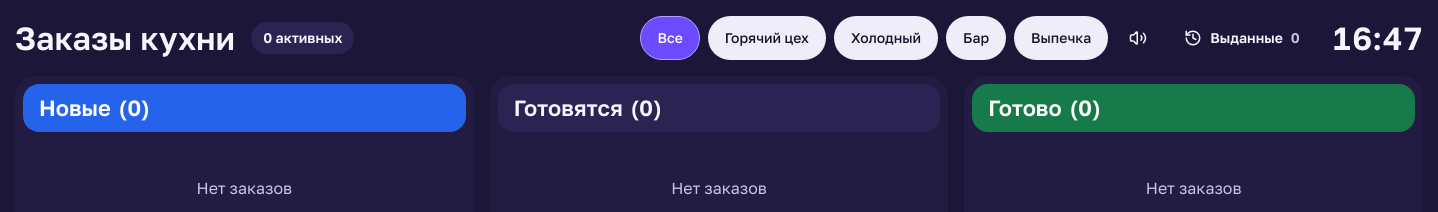
Test: KitchenBoard (W1-KDS-02) › has a sound switch remembered on the device
Step 1. Click the button named "Звук новых заказов включён" → click(1138, 38), box [1116,16,1160,60]
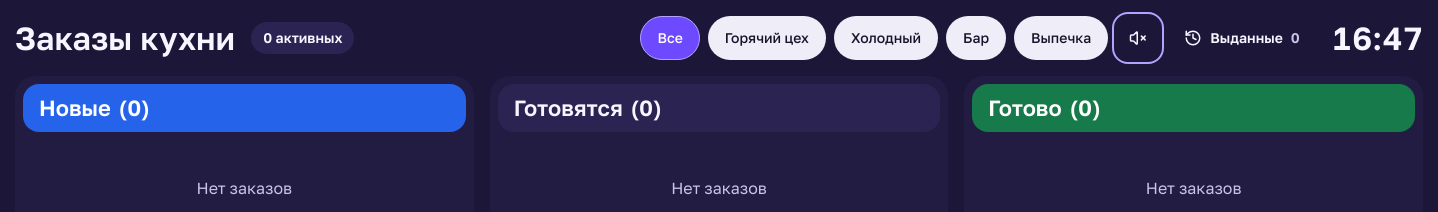
Now the button named "Звук новых заказов выключен" is shown, box [1116,16,1160,60]
